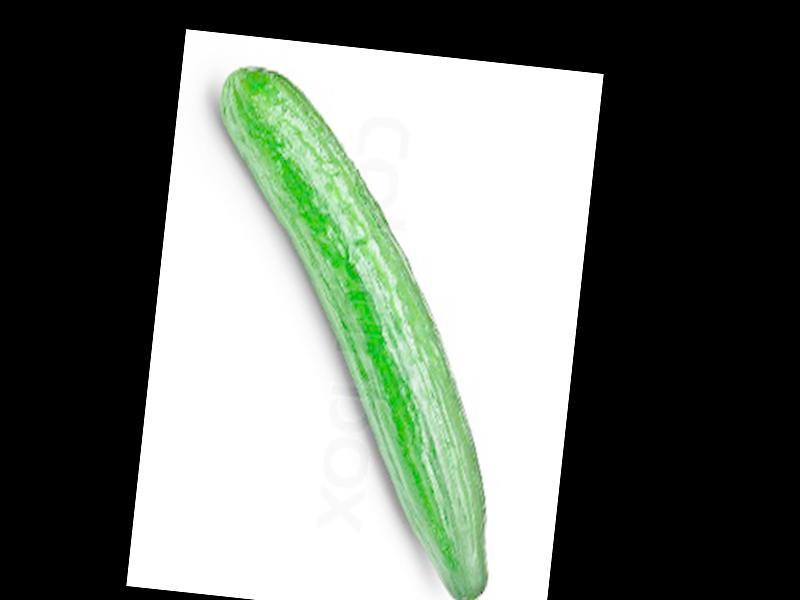Cucumber: (164, 65, 539, 600)
